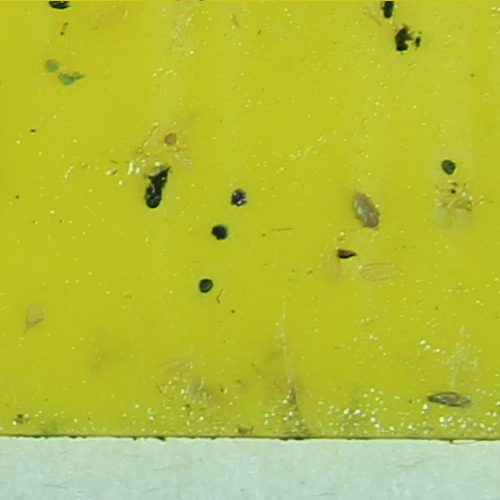Psyllaephagus: (140, 165, 173, 209)
